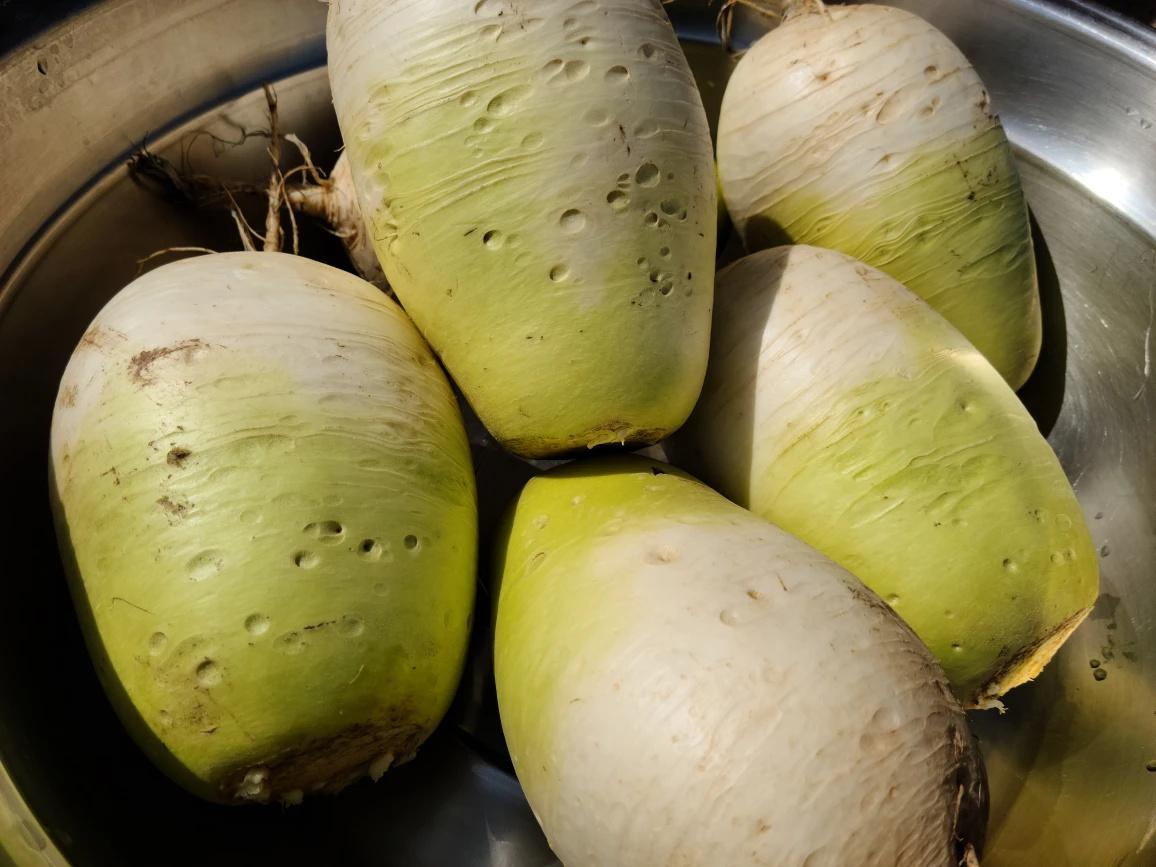radish: (648, 11, 1156, 606), (819, 359, 1156, 867)
